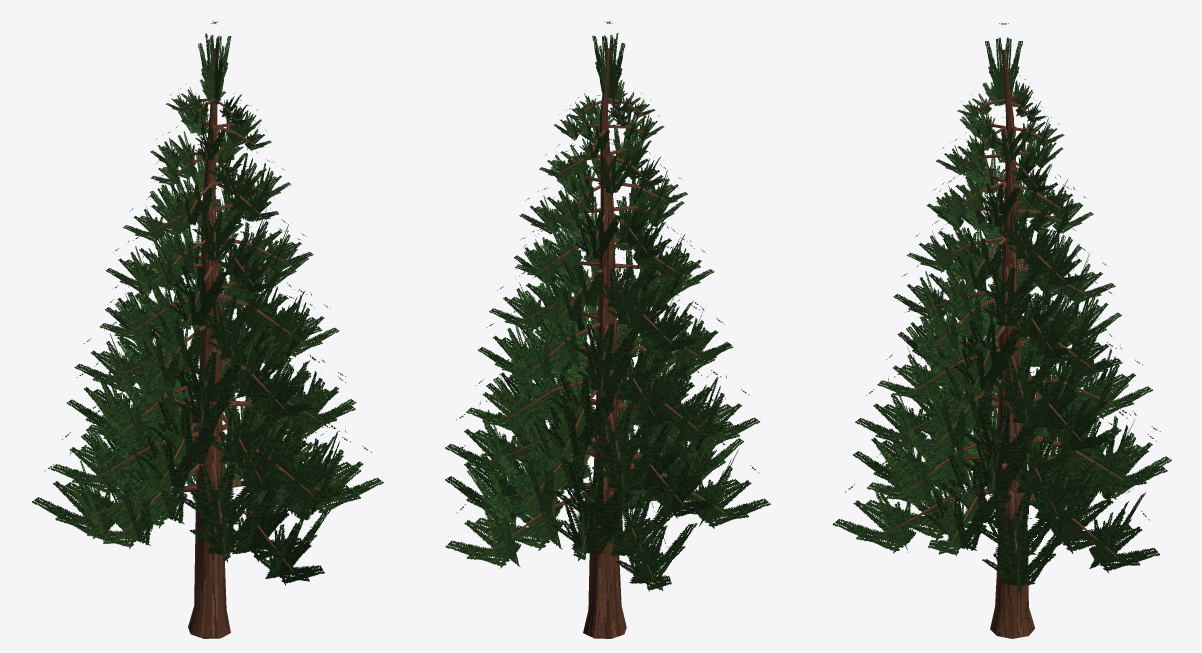
File: flora_cedar.glb
3 views of the same model, side by side, from view 1: azimuth 30°, elevation 25°; view 2: azimuth 150°, elevation 25°; view 3: azimuth 270°, elevation 25° (orthographic).
Parts seen in each view (by area): view 1: flora_cedar; view 2: flora_cedar; view 3: flora_cedar.
Boxes of the visible parts, left/top/right/bottom form: flora_cedar: left=32, top=20, right=383, bottom=638; flora_cedar: left=445, top=20, right=770, bottom=638; flora_cedar: left=832, top=23, right=1171, bottom=638.
Size of the model in its own units: 7.72 by 13.61 by 7.57.
Materials: 2 (2 with a texture image).
